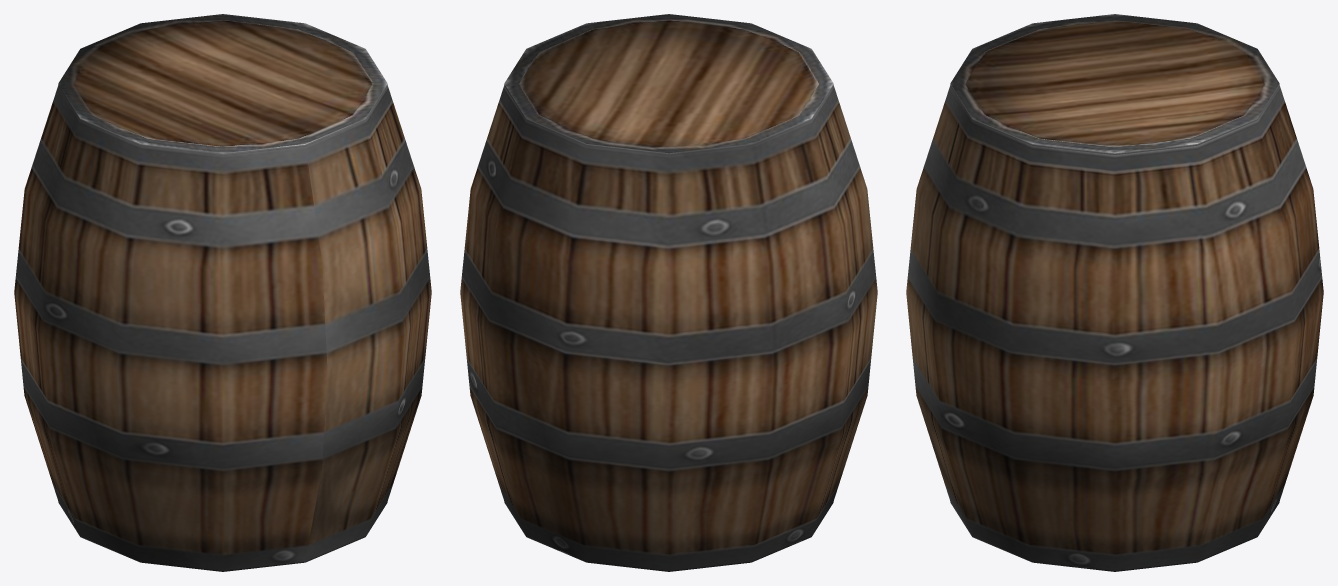
File: Barril.fbx
3 renders of one model, left to right at view 1: azimuth 30°, elevation 25°; view 2: azimuth 150°, elevation 25°; view 3: azimuth 270°, elevation 25°, orthographic.
Visible parts, largest first — view 1: Cylinder.001; view 2: Cylinder.001; view 3: Cylinder.001.
Part boxes in pixels (x1=…): Cylinder.001: x1=14, y1=14, x2=431, y2=571; Cylinder.001: x1=460, y1=14, x2=877, y2=571; Cylinder.001: x1=906, y1=14, x2=1323, y2=571.
Size of the model in its own units: 1.75 by 1.94 by 1.75.
